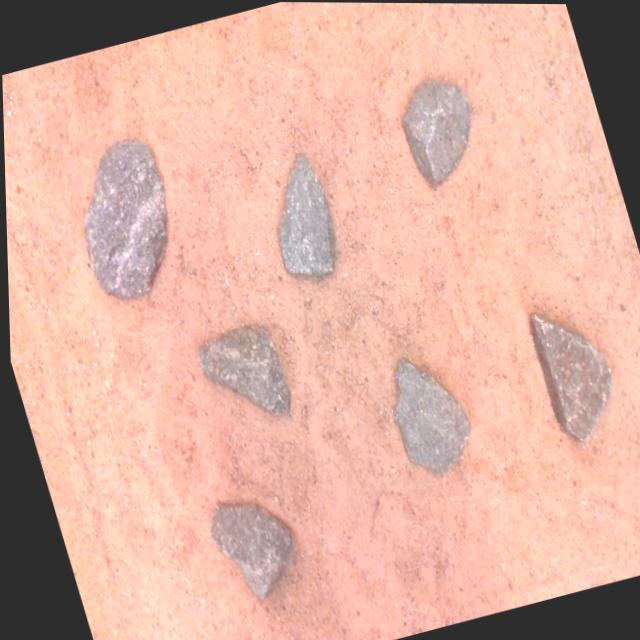rock: (82, 138, 165, 298), (528, 312, 608, 438), (393, 357, 467, 472), (196, 325, 287, 413), (207, 502, 288, 598), (401, 79, 469, 181), (277, 153, 332, 274)
